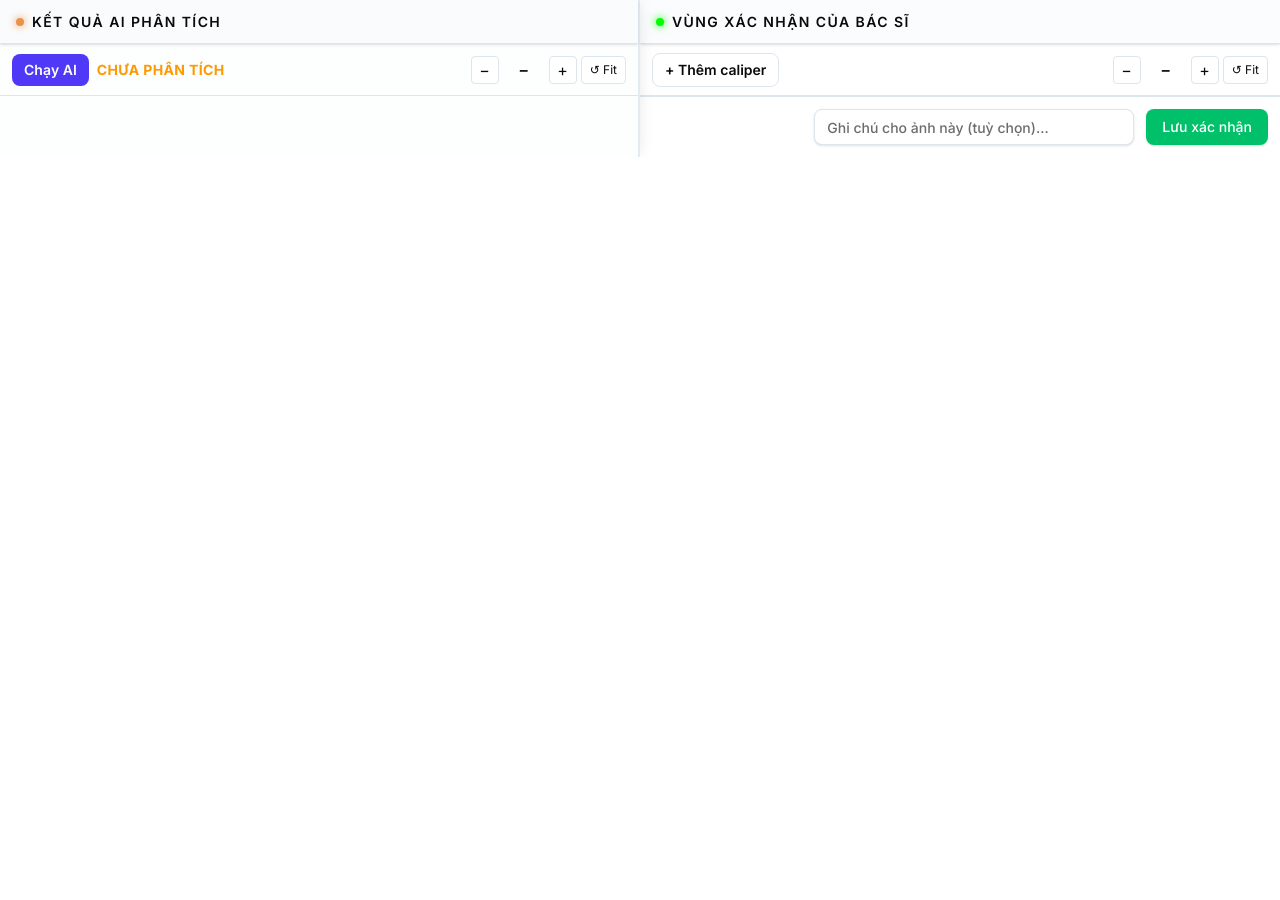
Test: DiagnosticCanvas › bấm 'Chạy AI' thất bại thì hiện toast lỗi, không throw ra ngoài
Click the button "Chạy AI": (50, 70) [12,54,89,86]
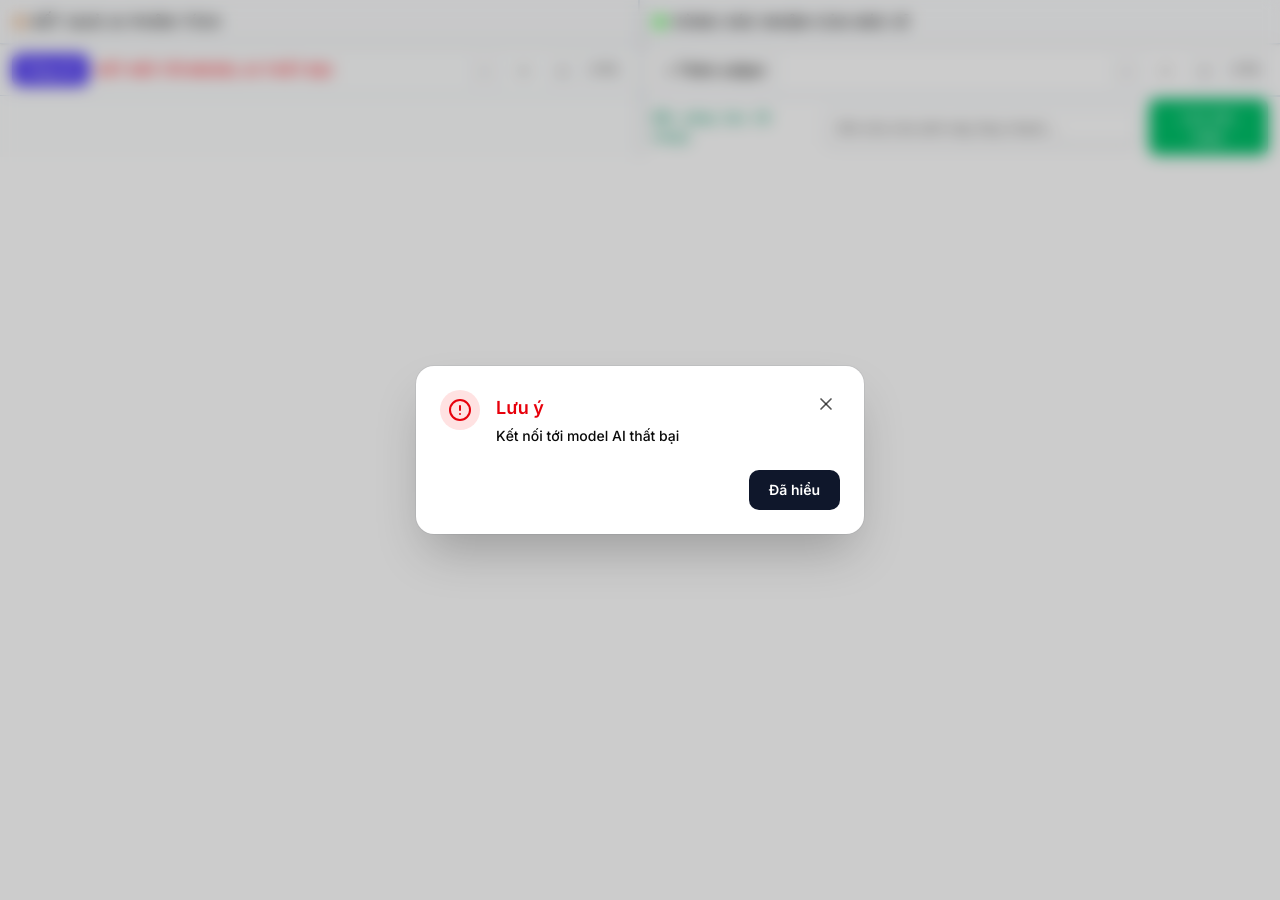
Result: the text "Kết nối tới model AI thất bại" below "Kết quả AI phân tích" is shown at [97,60,332,78]
